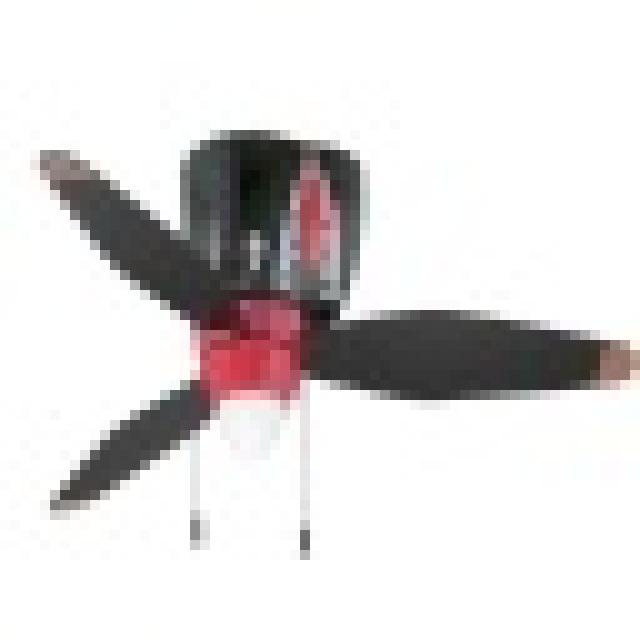Bulb: (36, 106, 632, 538)
